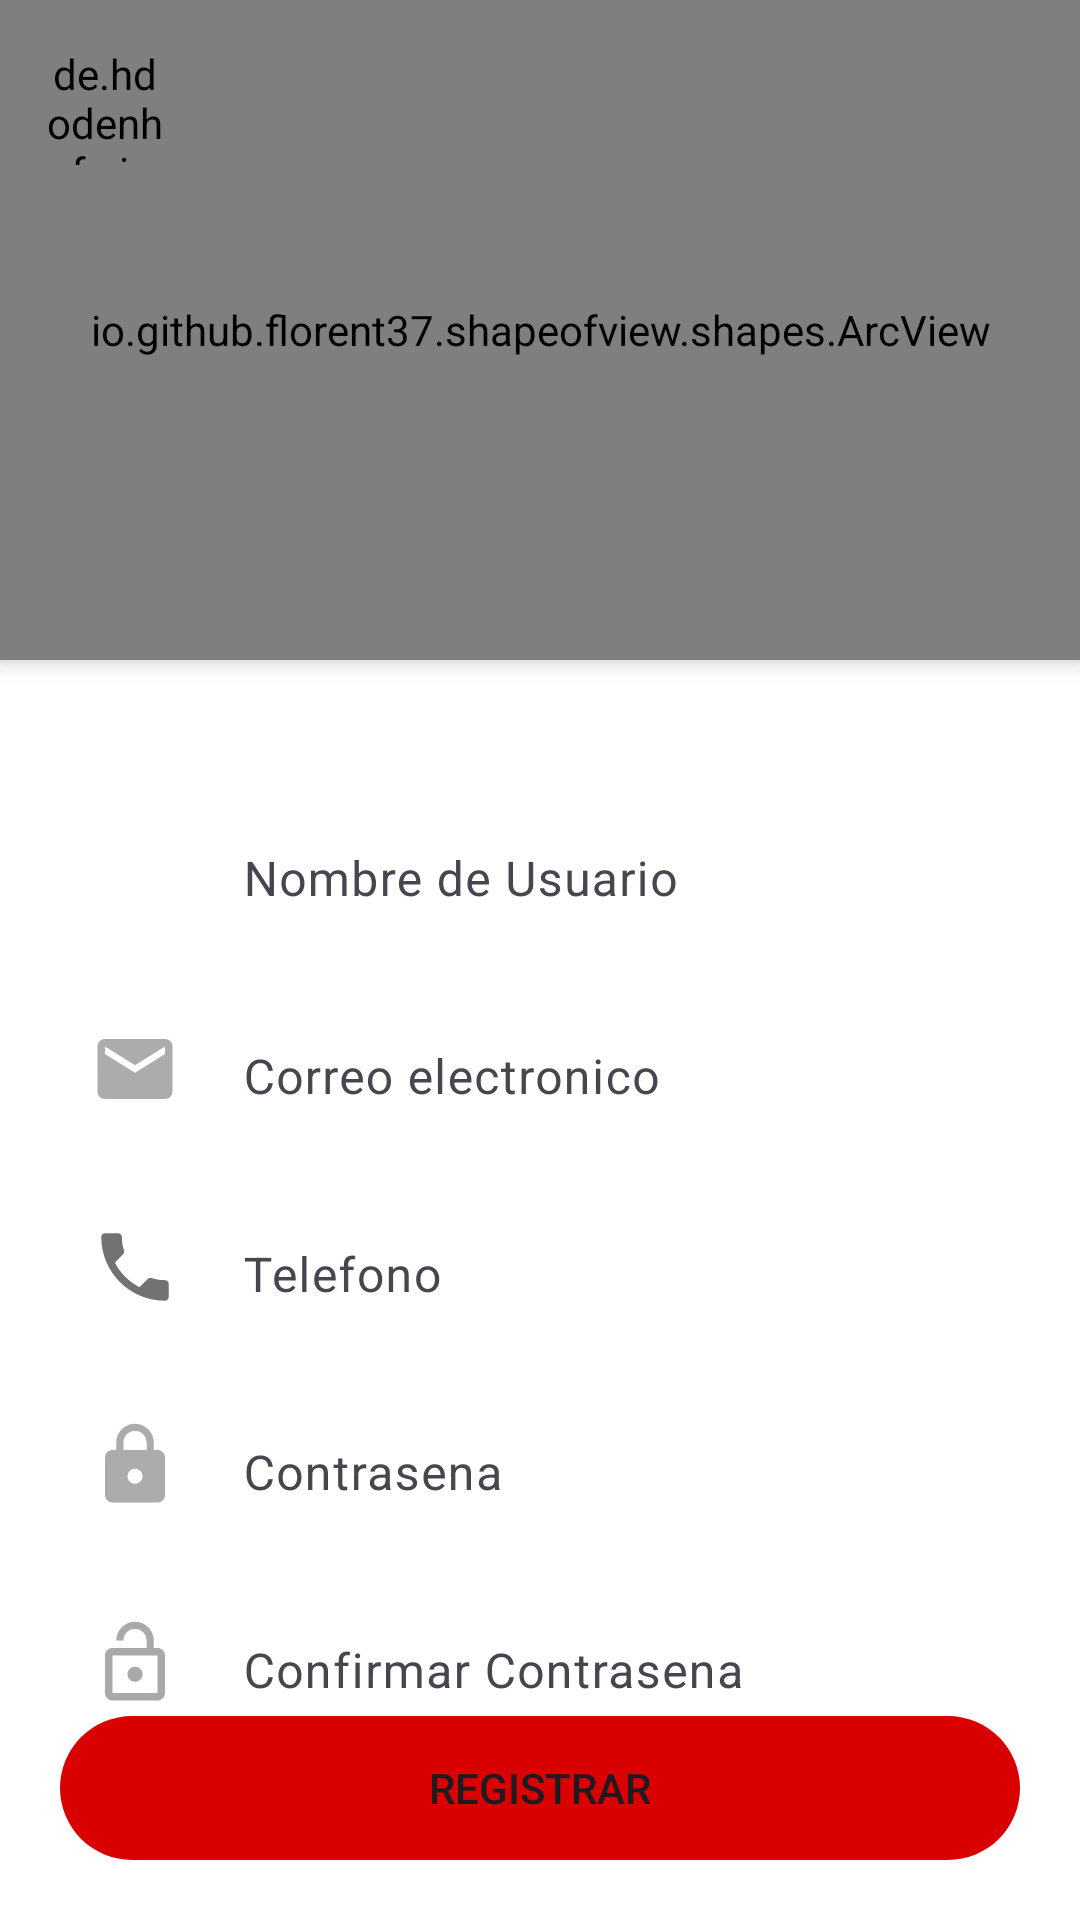

Named icons in this screenshot (1080px×1920px) and their centers, (x,y):
email: (135,1069)
lock open: (135,1661)
pasword: (135,1463)
phone: (135,1267)
